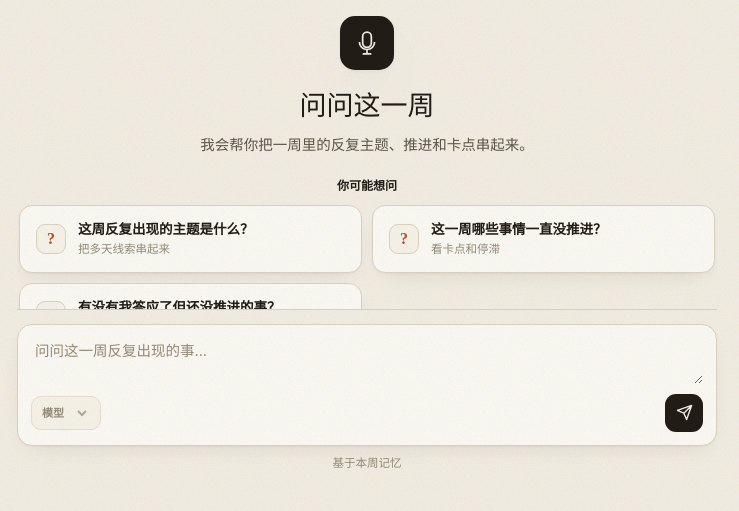
QaPanel › does not show backend machine error codes to users
In the text box named "问题": (367, 361) [31,338,703,384], type "本周有什么要跟进？"
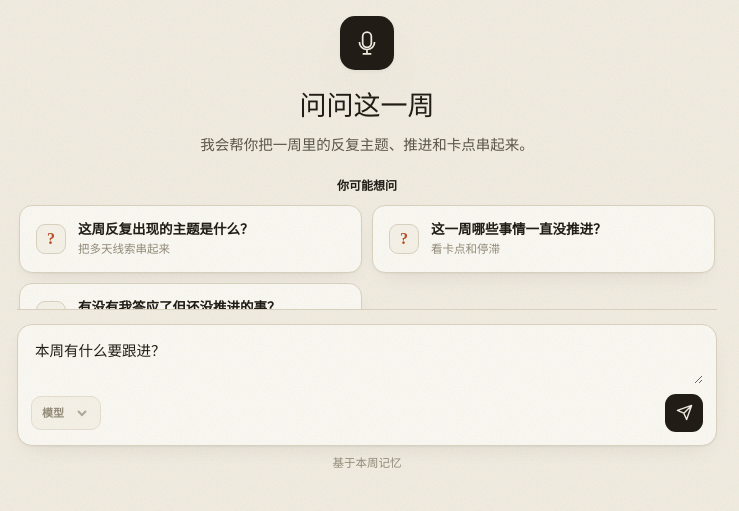
Submit the form named "提问", box [17,309,717,494]
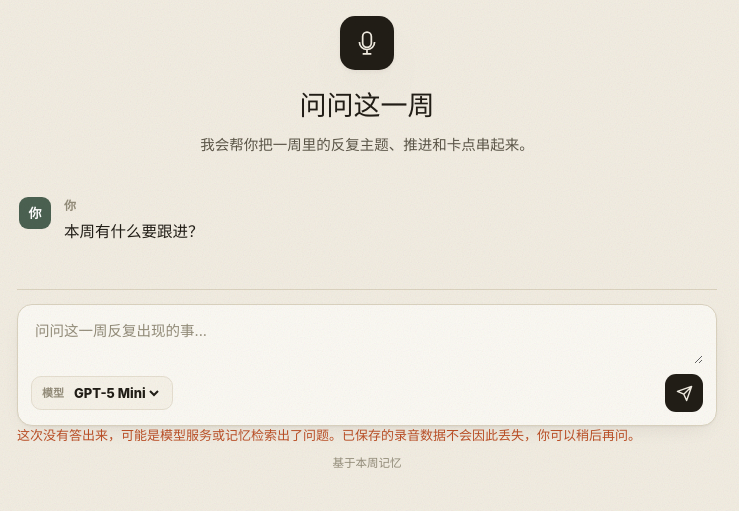
Result: the text "这次没有答出来，可能是模型服务或记忆检索出了问题。已保存的录音数据不会因此丢失，你可以稍后再问。" is shown at [17,426,717,446]
